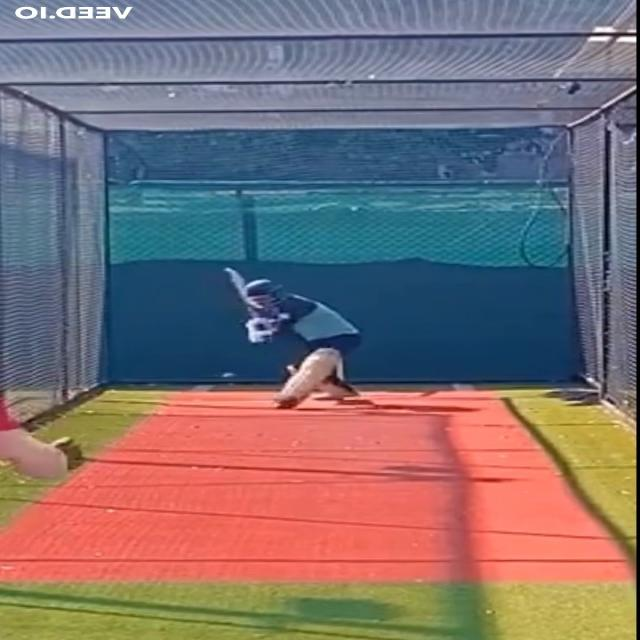ball: (216, 368, 237, 381)
